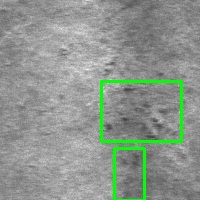rolled-in_scale: (101, 81, 181, 141), (114, 148, 144, 200)
